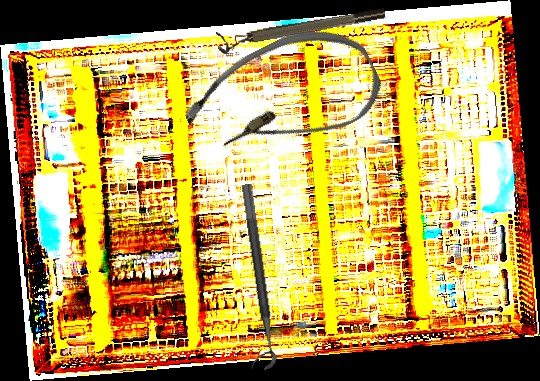Cannula: (173, 7, 392, 188)
Fixation Ring: (225, 183, 279, 372), (215, 5, 388, 55)
